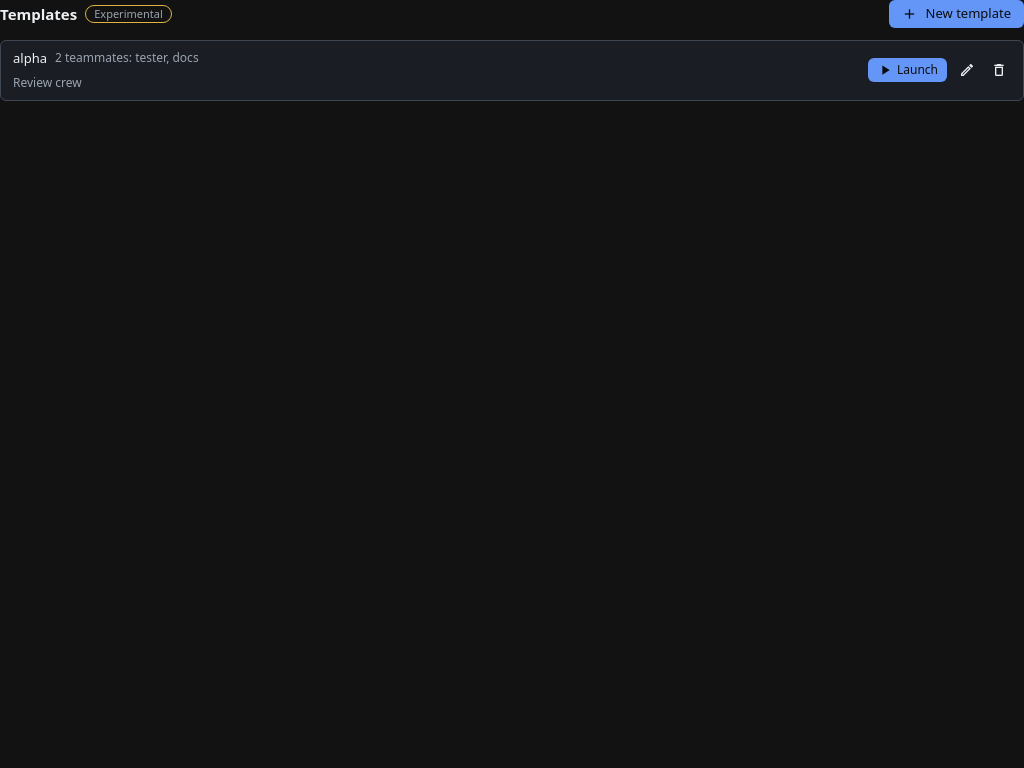
Test: TeamTemplatesPanel › deletes only after confirmation
What coordinates should you click on to do the following:
click the button named "Delete alpha"
I would click on:
 (999, 70)
Its box is [987, 58, 1011, 82].
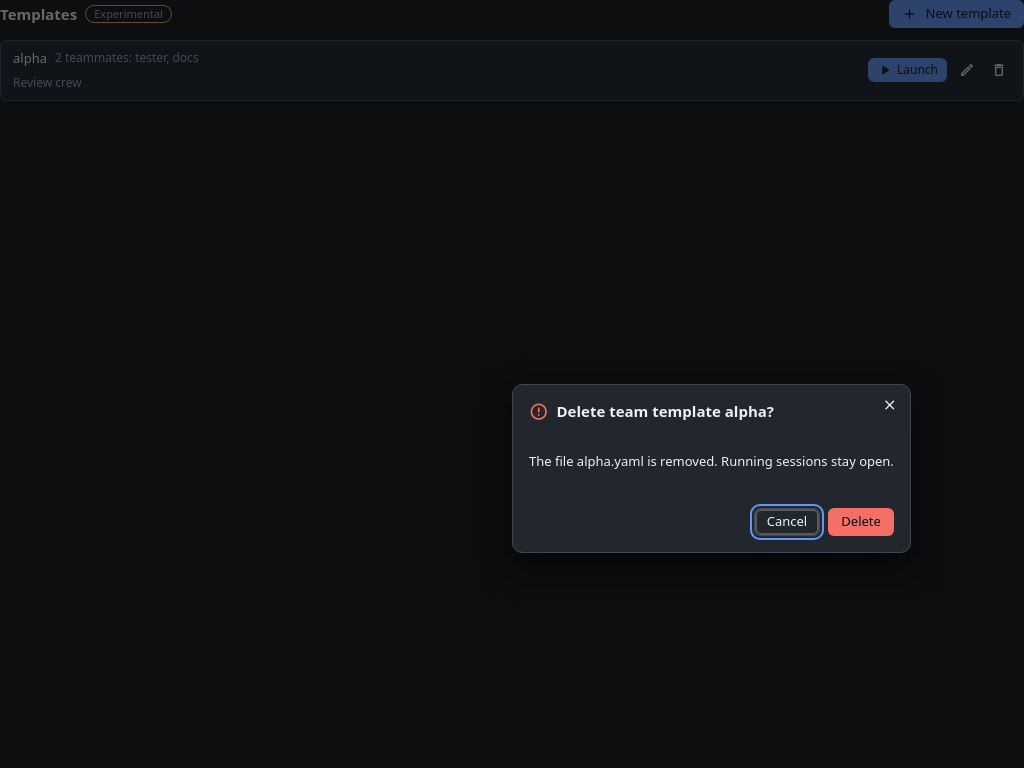
What coordinates should you click on to do the following:
click the button "Delete"
I would click on:
 (861, 522)
Its box is [828, 508, 894, 536].
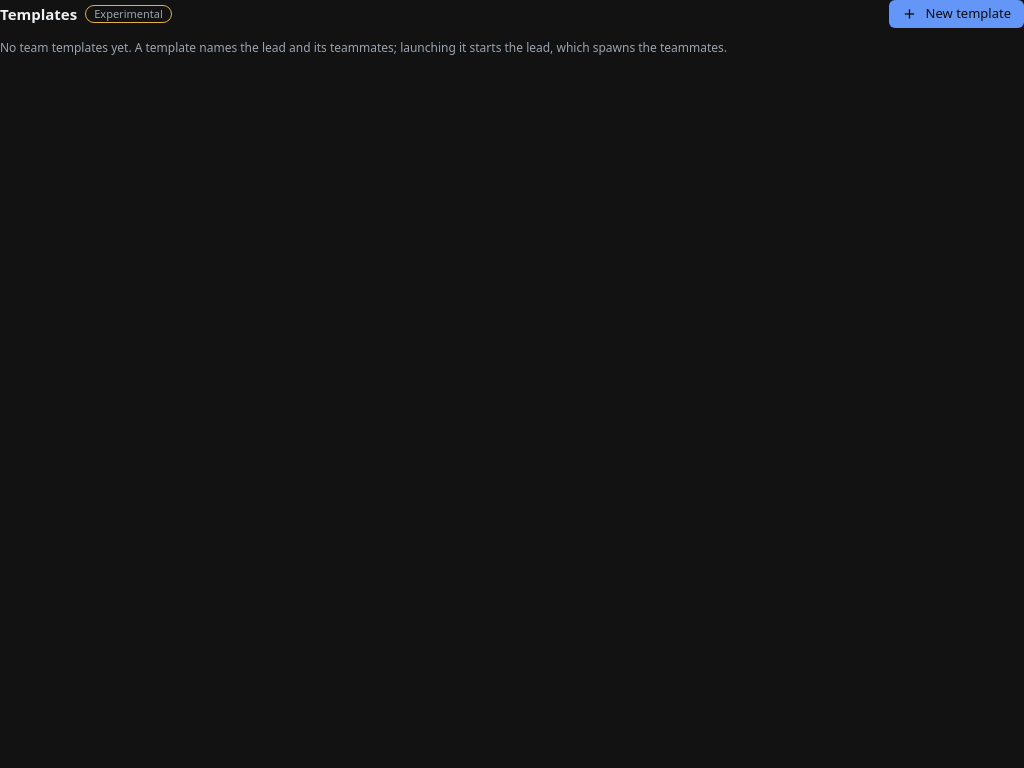
Now the text "Review crew" is gone
